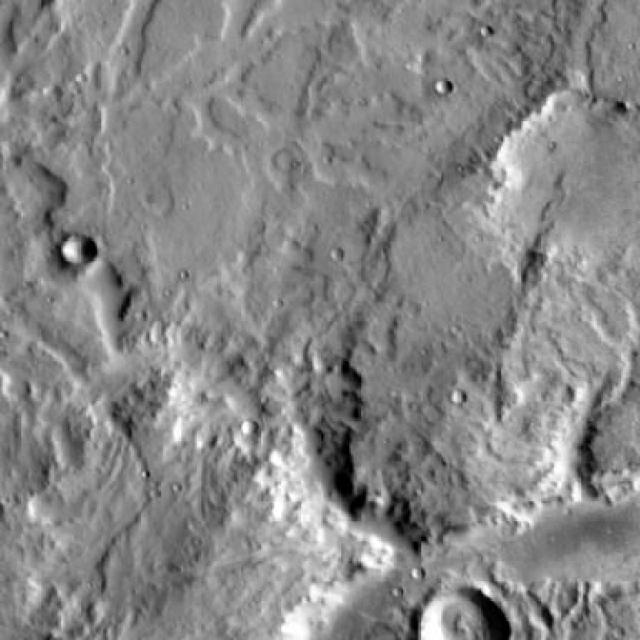crater: (460, 101, 640, 282), (416, 595, 512, 640), (57, 232, 94, 266), (435, 78, 454, 95)
